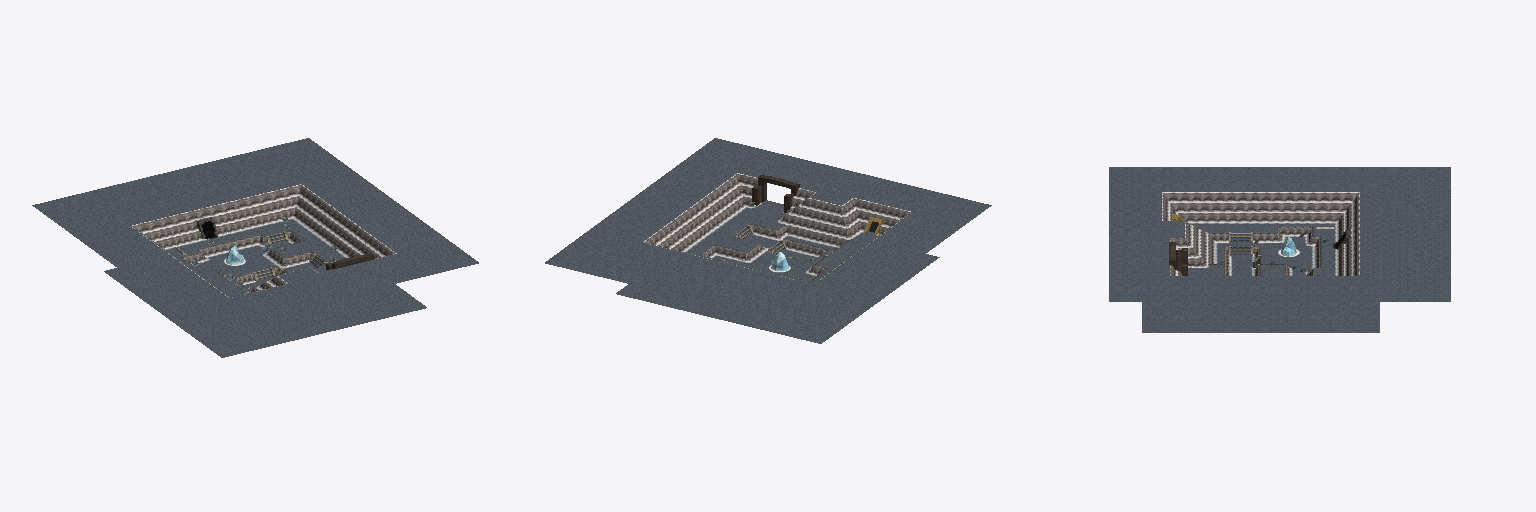
3 renders of one model, left to right at view 1: azimuth 30°, elevation 25°; view 2: azimuth 150°, elevation 25°; view 3: azimuth 270°, elevation 25°, orthographic.
Visible parts, largest first — view 1: polygon0, polygon3, polygon2, polygon6; view 2: polygon0, polygon3, polygon2, polygon6, polygon16; view 3: polygon0, polygon3, polygon2, polygon6, polygon11.
Boxes of the visible parts, box(x1,y1,x2,y2) form: polygon0: box(32, 138, 478, 357); polygon3: box(135, 187, 391, 292); polygon2: box(131, 184, 396, 297); polygon6: box(168, 221, 346, 297); polygon0: box(545, 138, 991, 343); polygon3: box(647, 176, 908, 275); polygon2: box(643, 173, 911, 283); polygon6: box(685, 205, 873, 283); polygon16: box(752, 175, 799, 212); polygon0: box(1109, 167, 1450, 332); polygon3: box(1165, 195, 1356, 275); polygon2: box(1162, 192, 1359, 275); polygon6: box(1189, 223, 1336, 275); polygon11: box(1208, 226, 1321, 275).
Size of the model in its own units: 10.5 by 1.93 by 11.25.
20 materials, 19 textured.